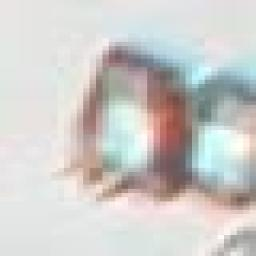crystals: (74, 43, 194, 207)
